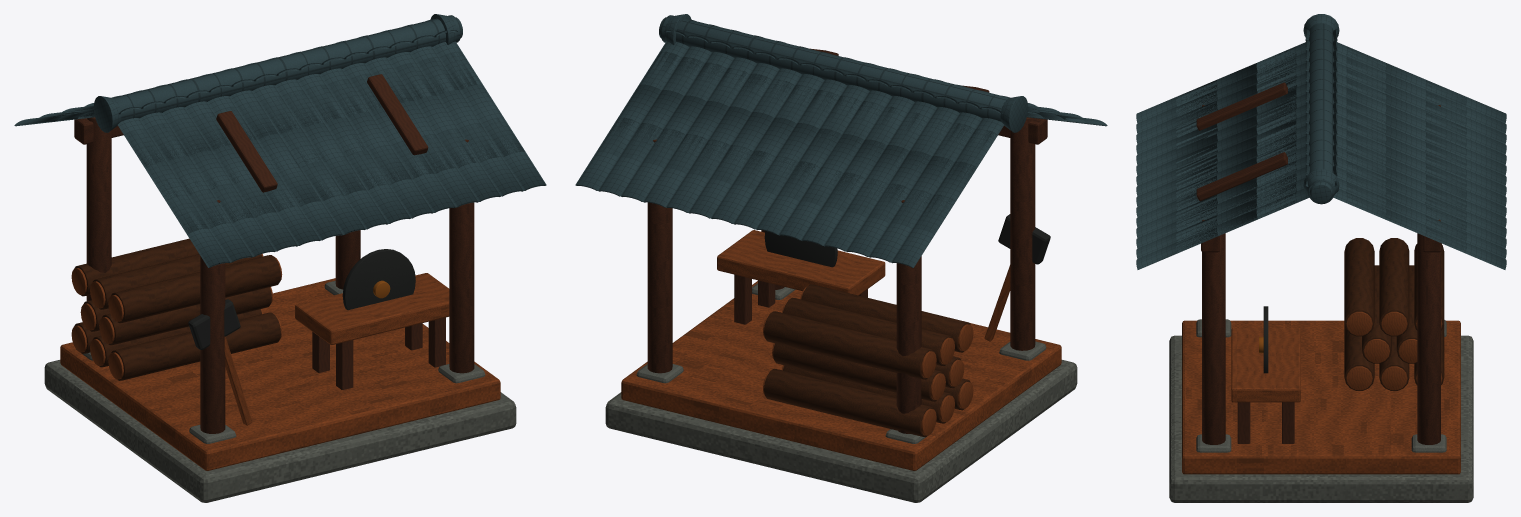
The model's file is building_lumber.glb.
3 views of the same model, side by side, from view 1: azimuth 30°, elevation 25°; view 2: azimuth 150°, elevation 25°; view 3: azimuth 270°, elevation 25° (orthographic). The views are drawn at different scales.
Parts seen in each view (by area): view 1: TimberDeck, StonePad, RoofRidge.001, SawBenchTop, StackedLog.005, MortisedPost.002, StackedLog, MortisedPost, MortisedPost.001, SawBlade, StackedLog.003, StackedLog.006 (+64 smaller); view 2: TimberDeck, StonePad, RoofRidge.001, MortisedPost, SawBenchTop, StackedLog.007, StackedLog.002, MortisedPost.003, MortisedPost.001, StackedLog.004, StackedLog.005, StackedLog.006 (+62 smaller); view 3: TimberDeck, StonePad, SawBenchTop, MortisedPost.002, MortisedPost.003, RoofRidge.001, StackedLog.006, StackedLog.005, RoofIdentity_TimberBatten.001, RoofIdentity_TimberBatten, RoofTile.179, RoofTile.178 (+100 smaller).
Part boxes in pixels (<box>): TimberDeck: <box>60,278,500,470</box>; StonePad: <box>44,360,516,502</box>; RoofRidge.001: <box>112,15,460,121</box>; SawBenchTop: <box>295,273,449,344</box>; StackedLog.005: <box>111,255,280,323</box>; MortisedPost.002: <box>449,139,474,373</box>; StackedLog: <box>111,312,280,380</box>; MortisedPost: <box>200,200,225,433</box>; MortisedPost.001: <box>86,117,111,301</box>; SawBlade: <box>342,249,415,310</box>; StackedLog.003: <box>102,287,271,345</box>; StackedLog.006: <box>93,254,261,309</box>; TimberDeck: <box>621,281,1061,470</box>; StonePad: <box>605,360,1077,502</box>; RoofRidge.001: <box>661,15,1009,121</box>; MortisedPost: <box>1010,117,1035,350</box>; SawBenchTop: <box>717,230,885,295</box>; StackedLog.007: <box>764,311,933,379</box>; StackedLog.002: <box>764,368,933,437</box>; MortisedPost.003: <box>647,139,672,373</box>; MortisedPost.001: <box>896,200,921,433</box>; StackedLog.004: <box>773,343,942,401</box>; StackedLog.005: <box>801,284,970,352</box>; StackedLog.006: <box>783,297,951,365</box>; TimberDeck: <box>1182,320,1460,474</box>; StonePad: <box>1169,335,1473,502</box>; SawBenchTop: <box>1231,328,1300,402</box>; MortisedPost.002: <box>1202,219,1225,444</box>; MortisedPost.003: <box>1417,219,1440,444</box>; RoofRidge.001: <box>1308,23,1334,204</box>; StackedLog.006: <box>1379,238,1409,336</box>; StackedLog.005: <box>1344,238,1374,336</box>; RoofIdentity_TimberBatten.001: <box>1196,152,1287,201</box>; RoofIdentity_TimberBatten: <box>1196,82,1287,130</box>; RoofTile.179: <box>1136,226,1217,269</box>; RoofTile.178: <box>1176,209,1257,253</box>.
Size of the model in its own units: 2.45 by 2.34 by 2.34.
7 materials, 7 textured.
